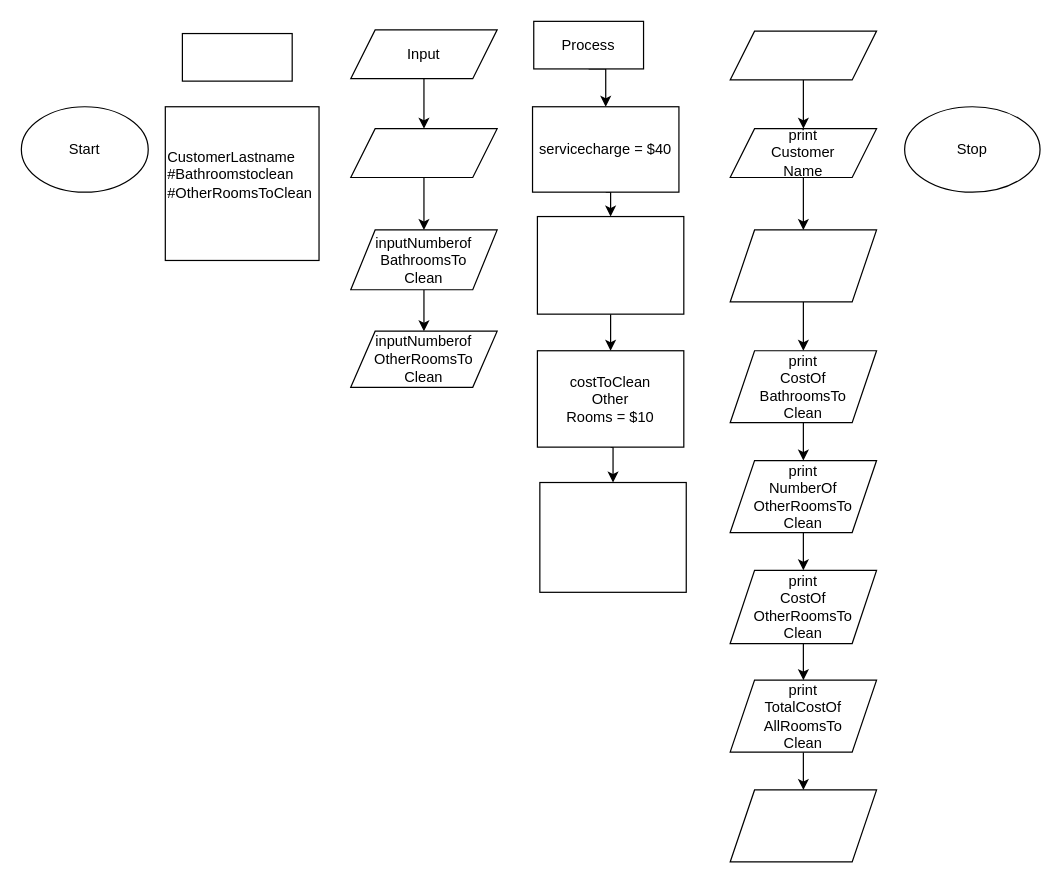
Image size: 1061x883. Some labels were removed from this diagram. The shapes that lost their labels are listed below. From the top down, each one's centre as x and y in pixels, then its label:
the point at 236,56: Plan
the point at 803,55: Output
the point at 423,152: inputCustomerL astName
the point at 610,264: costToClean EachB athroom = $15
the point at 803,265: print NumberOf BathroomsTo Clean
the point at 612,536: totalCost = ServiceCharge + costToClean Bathrooms + costToClean OtherRooms
the point at 803,825: printProgram IsComplete
